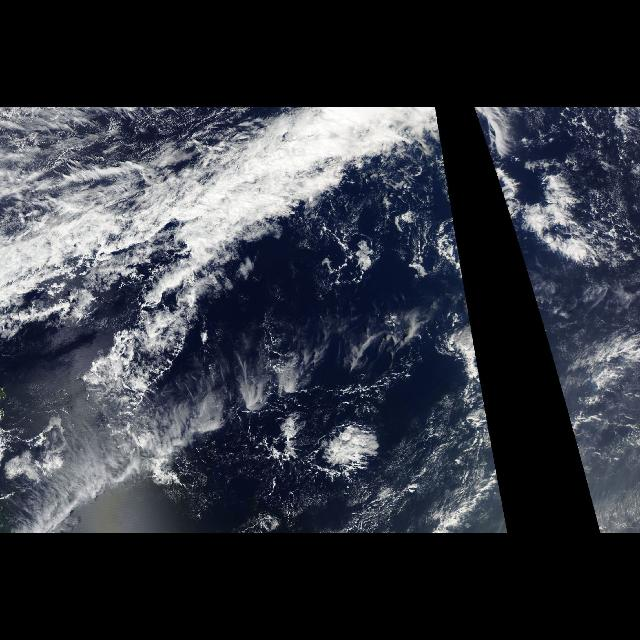Gravel: (240, 414, 466, 524), (294, 213, 471, 319), (508, 213, 628, 319)
